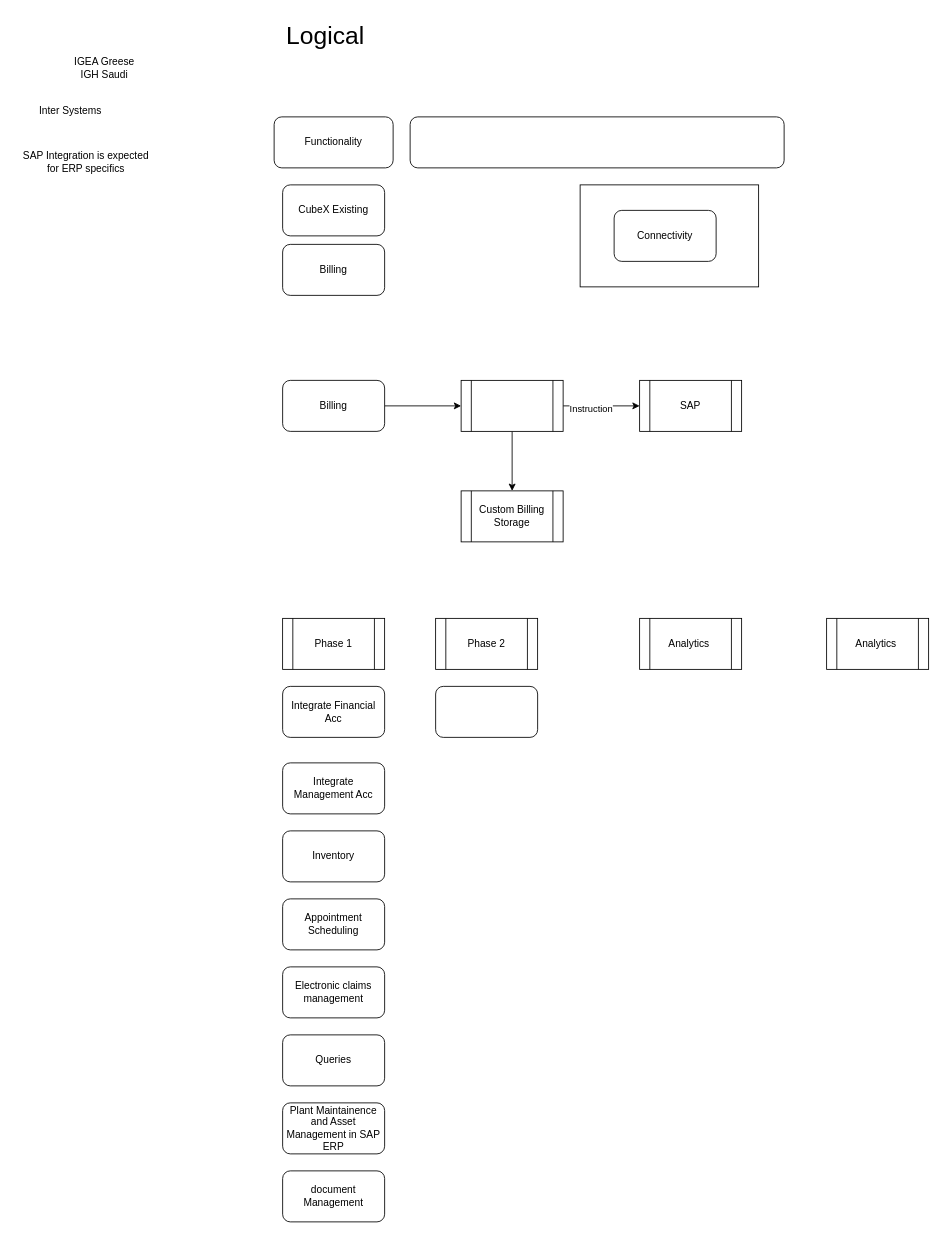
The diagram is 944 pixels wide and 1237 high, and some of its shapes have lost their labels. The box of each missing label's shape, as (x1, y1, x2, y2) in pixels:
Custom Billing Logic: (460, 380, 563, 431)
Efficient Design: (409, 116, 784, 168)
